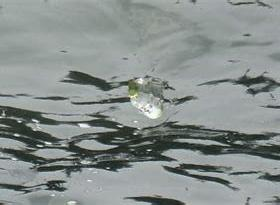Plastic: (127, 88, 163, 120)
